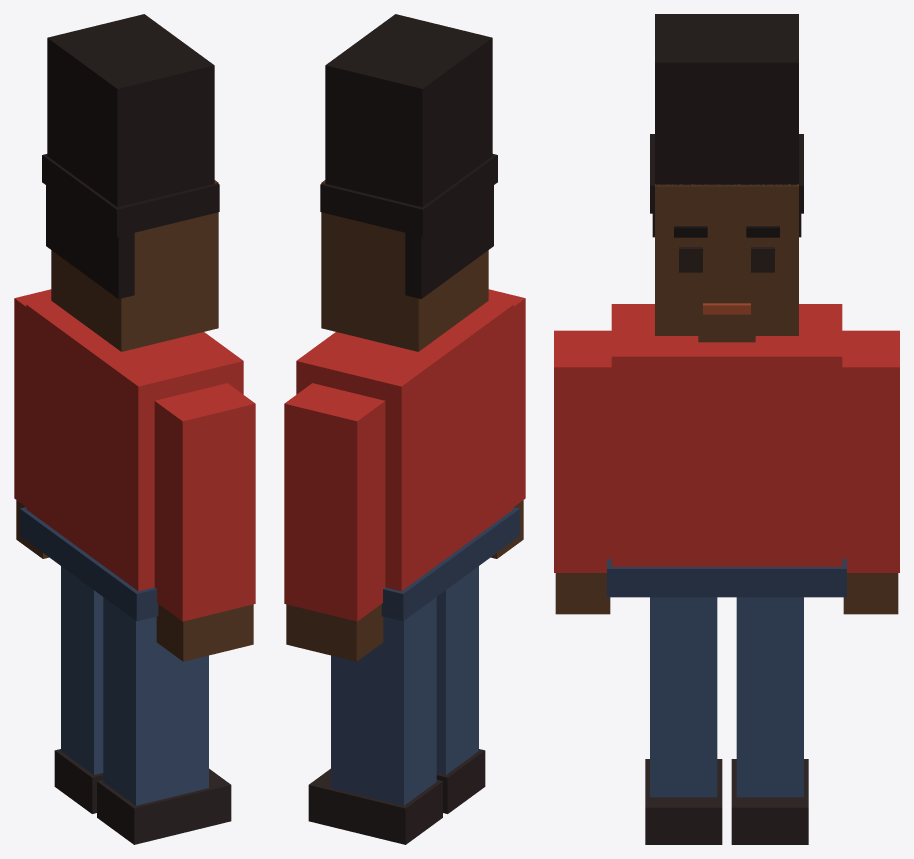
The model's file is brooks_dad.glb.
3 renders of one model, left to right at view 1: azimuth 30°, elevation 25°; view 2: azimuth 150°, elevation 25°; view 3: azimuth 270°, elevation 25°, orthographic. The views are drawn at different scales.
Visible parts, largest first — view 1: Box9, Box18, Box7, Box5, Box12, Box1, Box6, Box20, Box19, Box10, Box8, Box3 (+1 smaller); view 2: Box9, Box18, Box3, Box1, Box12, Box5, Box2, Box20, Box19, Box10, Box4, Box7 (+1 smaller); view 3: Box9, Box18, Box12, Box3, Box7, Box1, Box5, Box10, Box2, Box6, Box4, Box8 (+1 smaller).
Boxes of the visible parts, x1,y1,x2,y2 form: Box9: (26,298,243,591); Box18: (47,14,214,207); Box7: (154,383,255,621); Box5: (103,597,208,805); Box12: (51,180,218,351); Box1: (61,566,103,774); Box6: (97,768,231,844); Box20: (46,185,134,299); Box19: (42,154,219,236); Box10: (20,507,158,621); Box8: (156,604,253,661); Box3: (14,289,51,506); Box9: (296,298,513,591); Box18: (325,14,492,207); Box3: (284,383,385,621); Box1: (331,597,436,805); Box12: (321,180,488,351); Box5: (436,566,478,774); Box2: (308,768,442,844); Box20: (405,185,493,299); Box19: (320,154,497,236); Box10: (381,507,519,621); Box4: (286,604,383,661); Box7: (488,289,525,506); Box9: (611,304,842,566); Box18: (655,14,798,184); Box12: (655,184,798,335); Box3: (842,330,899,572); Box7: (554,330,611,572); Box1: (736,597,803,797); Box5: (650,597,717,797); Box10: (607,559,846,597); Box2: (731,759,808,844); Box6: (645,759,722,844); Box4: (843,573,898,614); Box8: (555,573,610,614).
Bounding box in the file's own units: 0.3175 × 2.02 × 0.8165.
